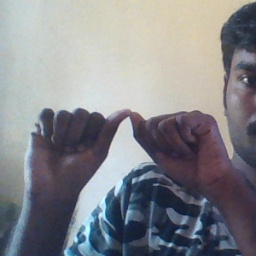A: (27, 96, 222, 196)
